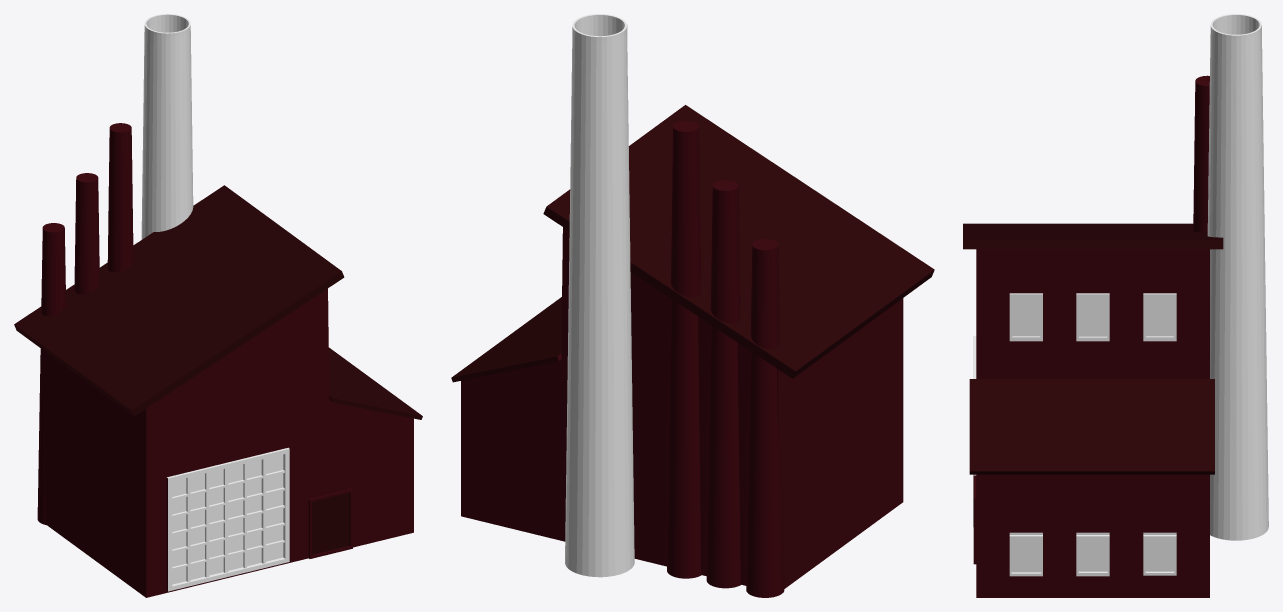
Rendered from factory.glb.
The picture shows the model from 3 angles, left to right: view 1: azimuth 30°, elevation 25°; view 2: azimuth 150°, elevation 25°; view 3: azimuth 270°, elevation 25°; orthographic projection. The views are drawn at different scales.
Parts seen in each view (by area): view 1: Cube.194, Cube.195, Cube.197, Cube.196, Cube.198, Cube.199; view 2: Cube.194, Cube.195, Cube.199, Cube.198; view 3: Cube.194, Cube.195, Cube.198, Cube.199, Cube.197, Cube.196.
Part boxes in pixels (x1,y1,x2,y2): Cube.194: [37, 123, 413, 597]; Cube.195: [14, 185, 422, 554]; Cube.197: [172, 454, 283, 584]; Cube.196: [167, 447, 289, 591]; Cube.198: [141, 18, 193, 239]; Cube.199: [141, 14, 193, 234]; Cube.194: [461, 121, 903, 597]; Cube.195: [451, 105, 934, 382]; Cube.199: [565, 14, 634, 577]; Cube.198: [565, 19, 634, 547]; Cube.194: [973, 75, 1209, 597]; Cube.195: [963, 223, 1223, 474]; Cube.198: [1208, 18, 1268, 512]; Cube.199: [1207, 14, 1268, 540]; Cube.197: [1011, 298, 1174, 572]; Cube.196: [973, 293, 1176, 576].
Size of the model in its own units: 6.45 by 9.52 by 5.23.
